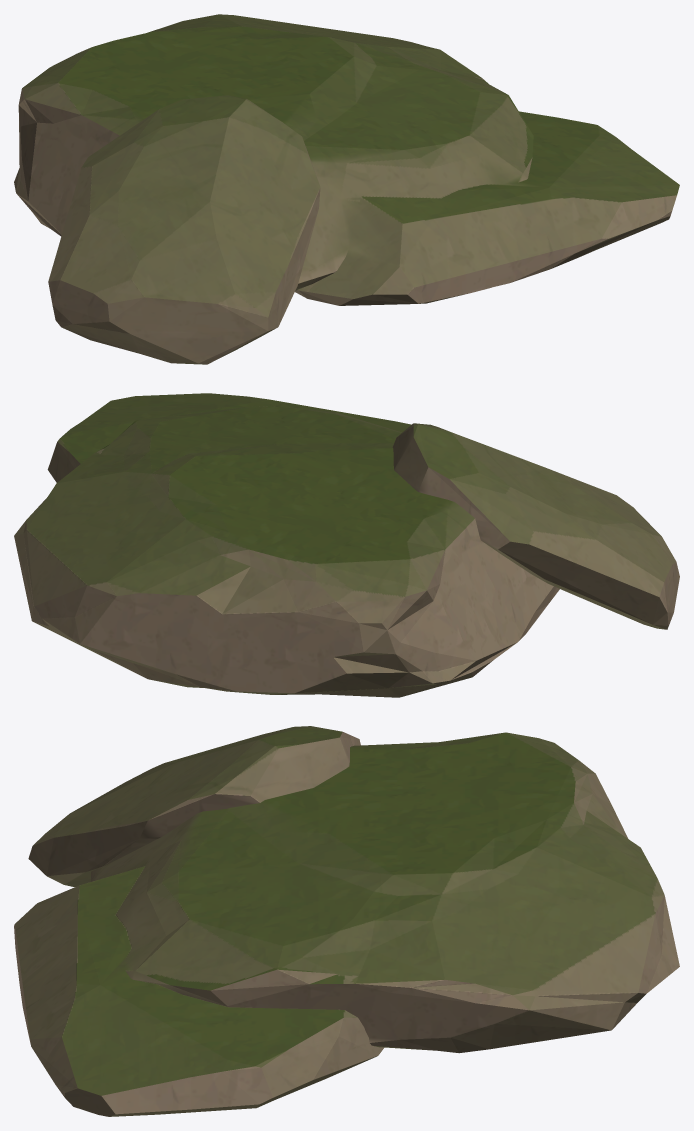
Rendered from SM_Env_Rock_Pile_02.glb.
3 views of the same model, one above another, from view 1: azimuth 30°, elevation 25°; view 2: azimuth 150°, elevation 25°; view 3: azimuth 270°, elevation 25° (orthographic). The views are drawn at different scales.
Visible parts, largest first — view 1: SM_Env_Rock_Pile_02; view 2: SM_Env_Rock_Pile_02; view 3: SM_Env_Rock_Pile_02.
Part boxes in pixels (x1=…): SM_Env_Rock_Pile_02: x1=14, y1=14, x2=679, y2=364; SM_Env_Rock_Pile_02: x1=14, y1=393, x2=679, y2=697; SM_Env_Rock_Pile_02: x1=14, y1=726, x2=679, y2=1116.
Size of the model in its own units: 8.78 by 2.6 by 7.42.
Materials: 1 (1 with a texture image).
